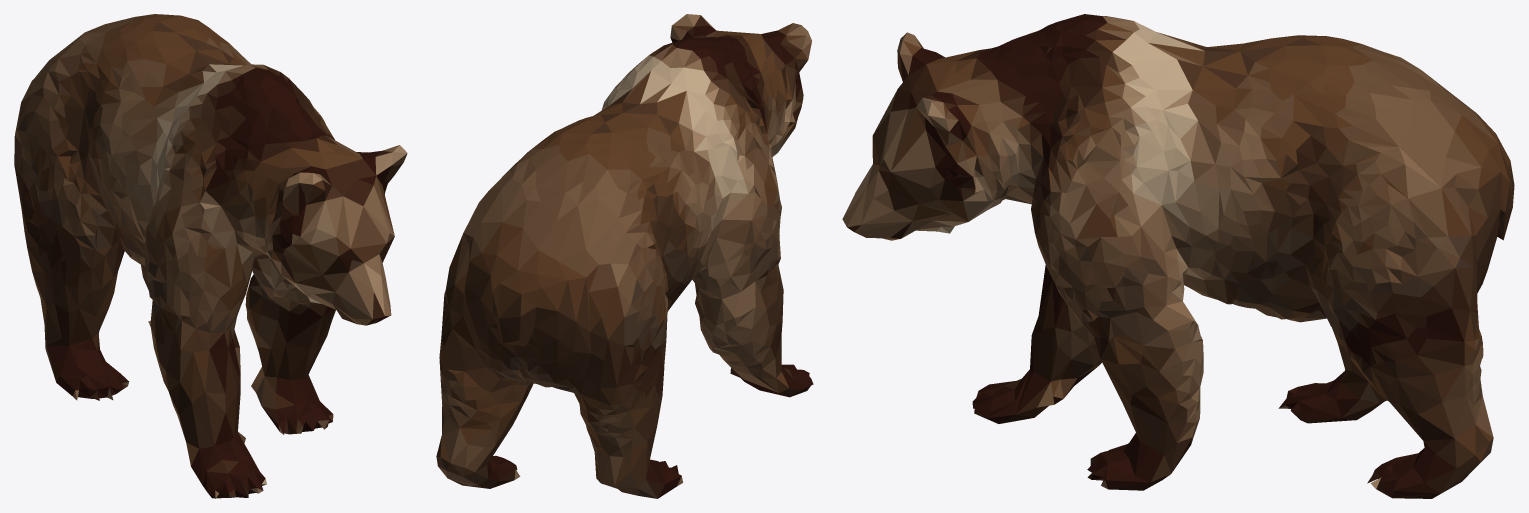
File: ursus_arctos.glb
3 renders of one model, left to right at view 1: azimuth 30°, elevation 25°; view 2: azimuth 150°, elevation 25°; view 3: azimuth 270°, elevation 25°, orthographic. The views are drawn at different scales.
Visible parts, largest first — view 1: lod0; view 2: lod0; view 3: lod0.
Boxes of the visible parts, box(x1,y1,x2,y2) form: lod0: box(14, 14, 407, 498); lod0: box(436, 14, 813, 498); lod0: box(842, 14, 1514, 498).
Size of what is drawn, in the model's own units: 0.4851 by 0.8735 by 1.25.
